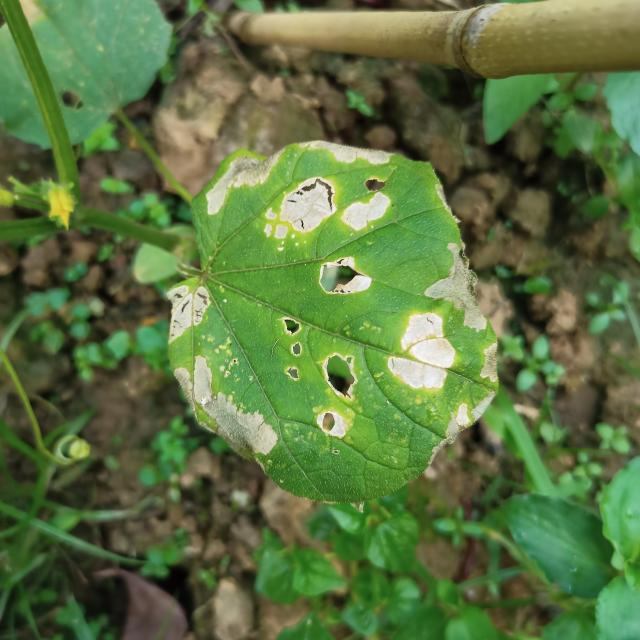disease_cucumber: (309, 240, 500, 481), (192, 140, 397, 299), (154, 274, 306, 482)
